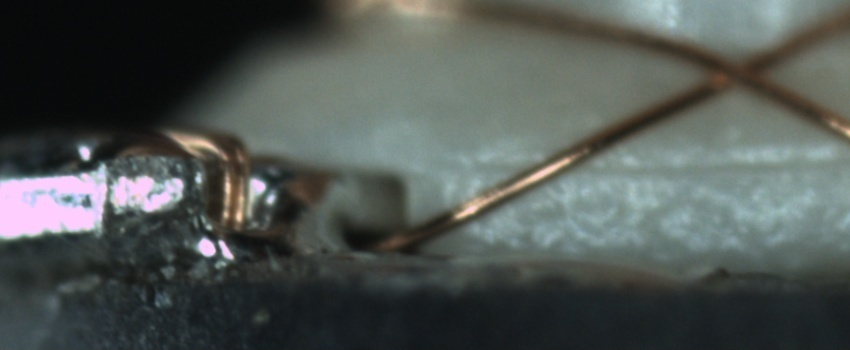CL: (693, 38, 787, 102)
DL: (472, 136, 849, 193)
TE: (141, 123, 253, 236)
